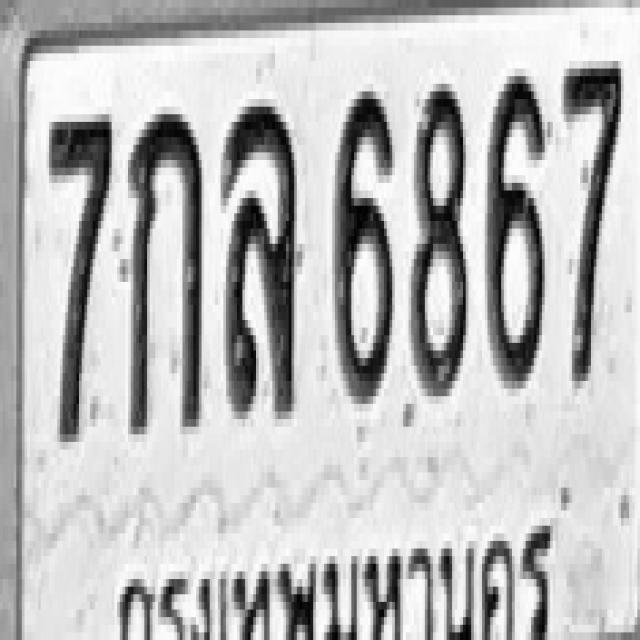10GorGai: (127, 103, 203, 430)
45LorLing: (222, 95, 298, 415)
6: (334, 80, 394, 400), (486, 65, 546, 385)
7: (46, 107, 112, 442), (561, 53, 621, 381)
8: (410, 72, 467, 392)
